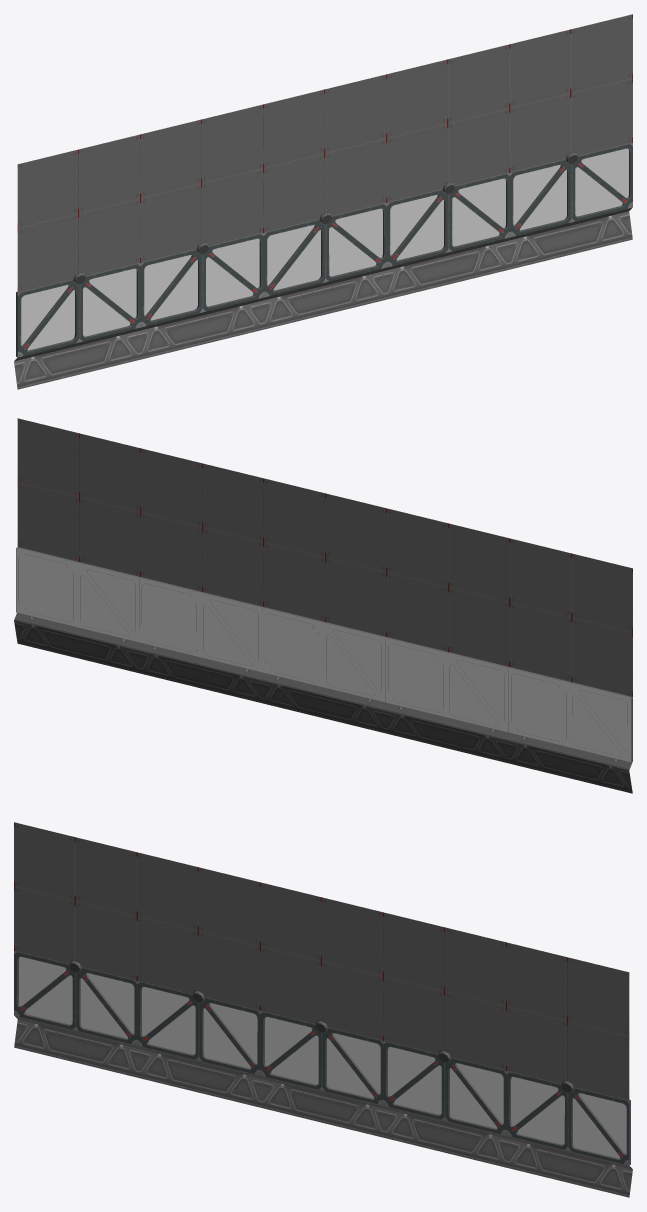
Rendered from wall_04_bottom.fbx.
3 views of the same model, one above another, from view 1: azimuth 30°, elevation 25°; view 2: azimuth 150°, elevation 25°; view 3: azimuth 330°, elevation 25° (orthographic).
Visible parts, largest first — view 1: wall_04_bottom; view 2: wall_04_bottom; view 3: wall_04_bottom.
Part boxes in pixels (box(x1,y1,x2,y2)): wall_04_bottom: box(14, 14, 632, 389); wall_04_bottom: box(14, 418, 632, 793); wall_04_bottom: box(14, 822, 632, 1197).
Size of the model in its own units: 2000 by 700 by 32.01.
Materials: 5 (4 with a texture image).
